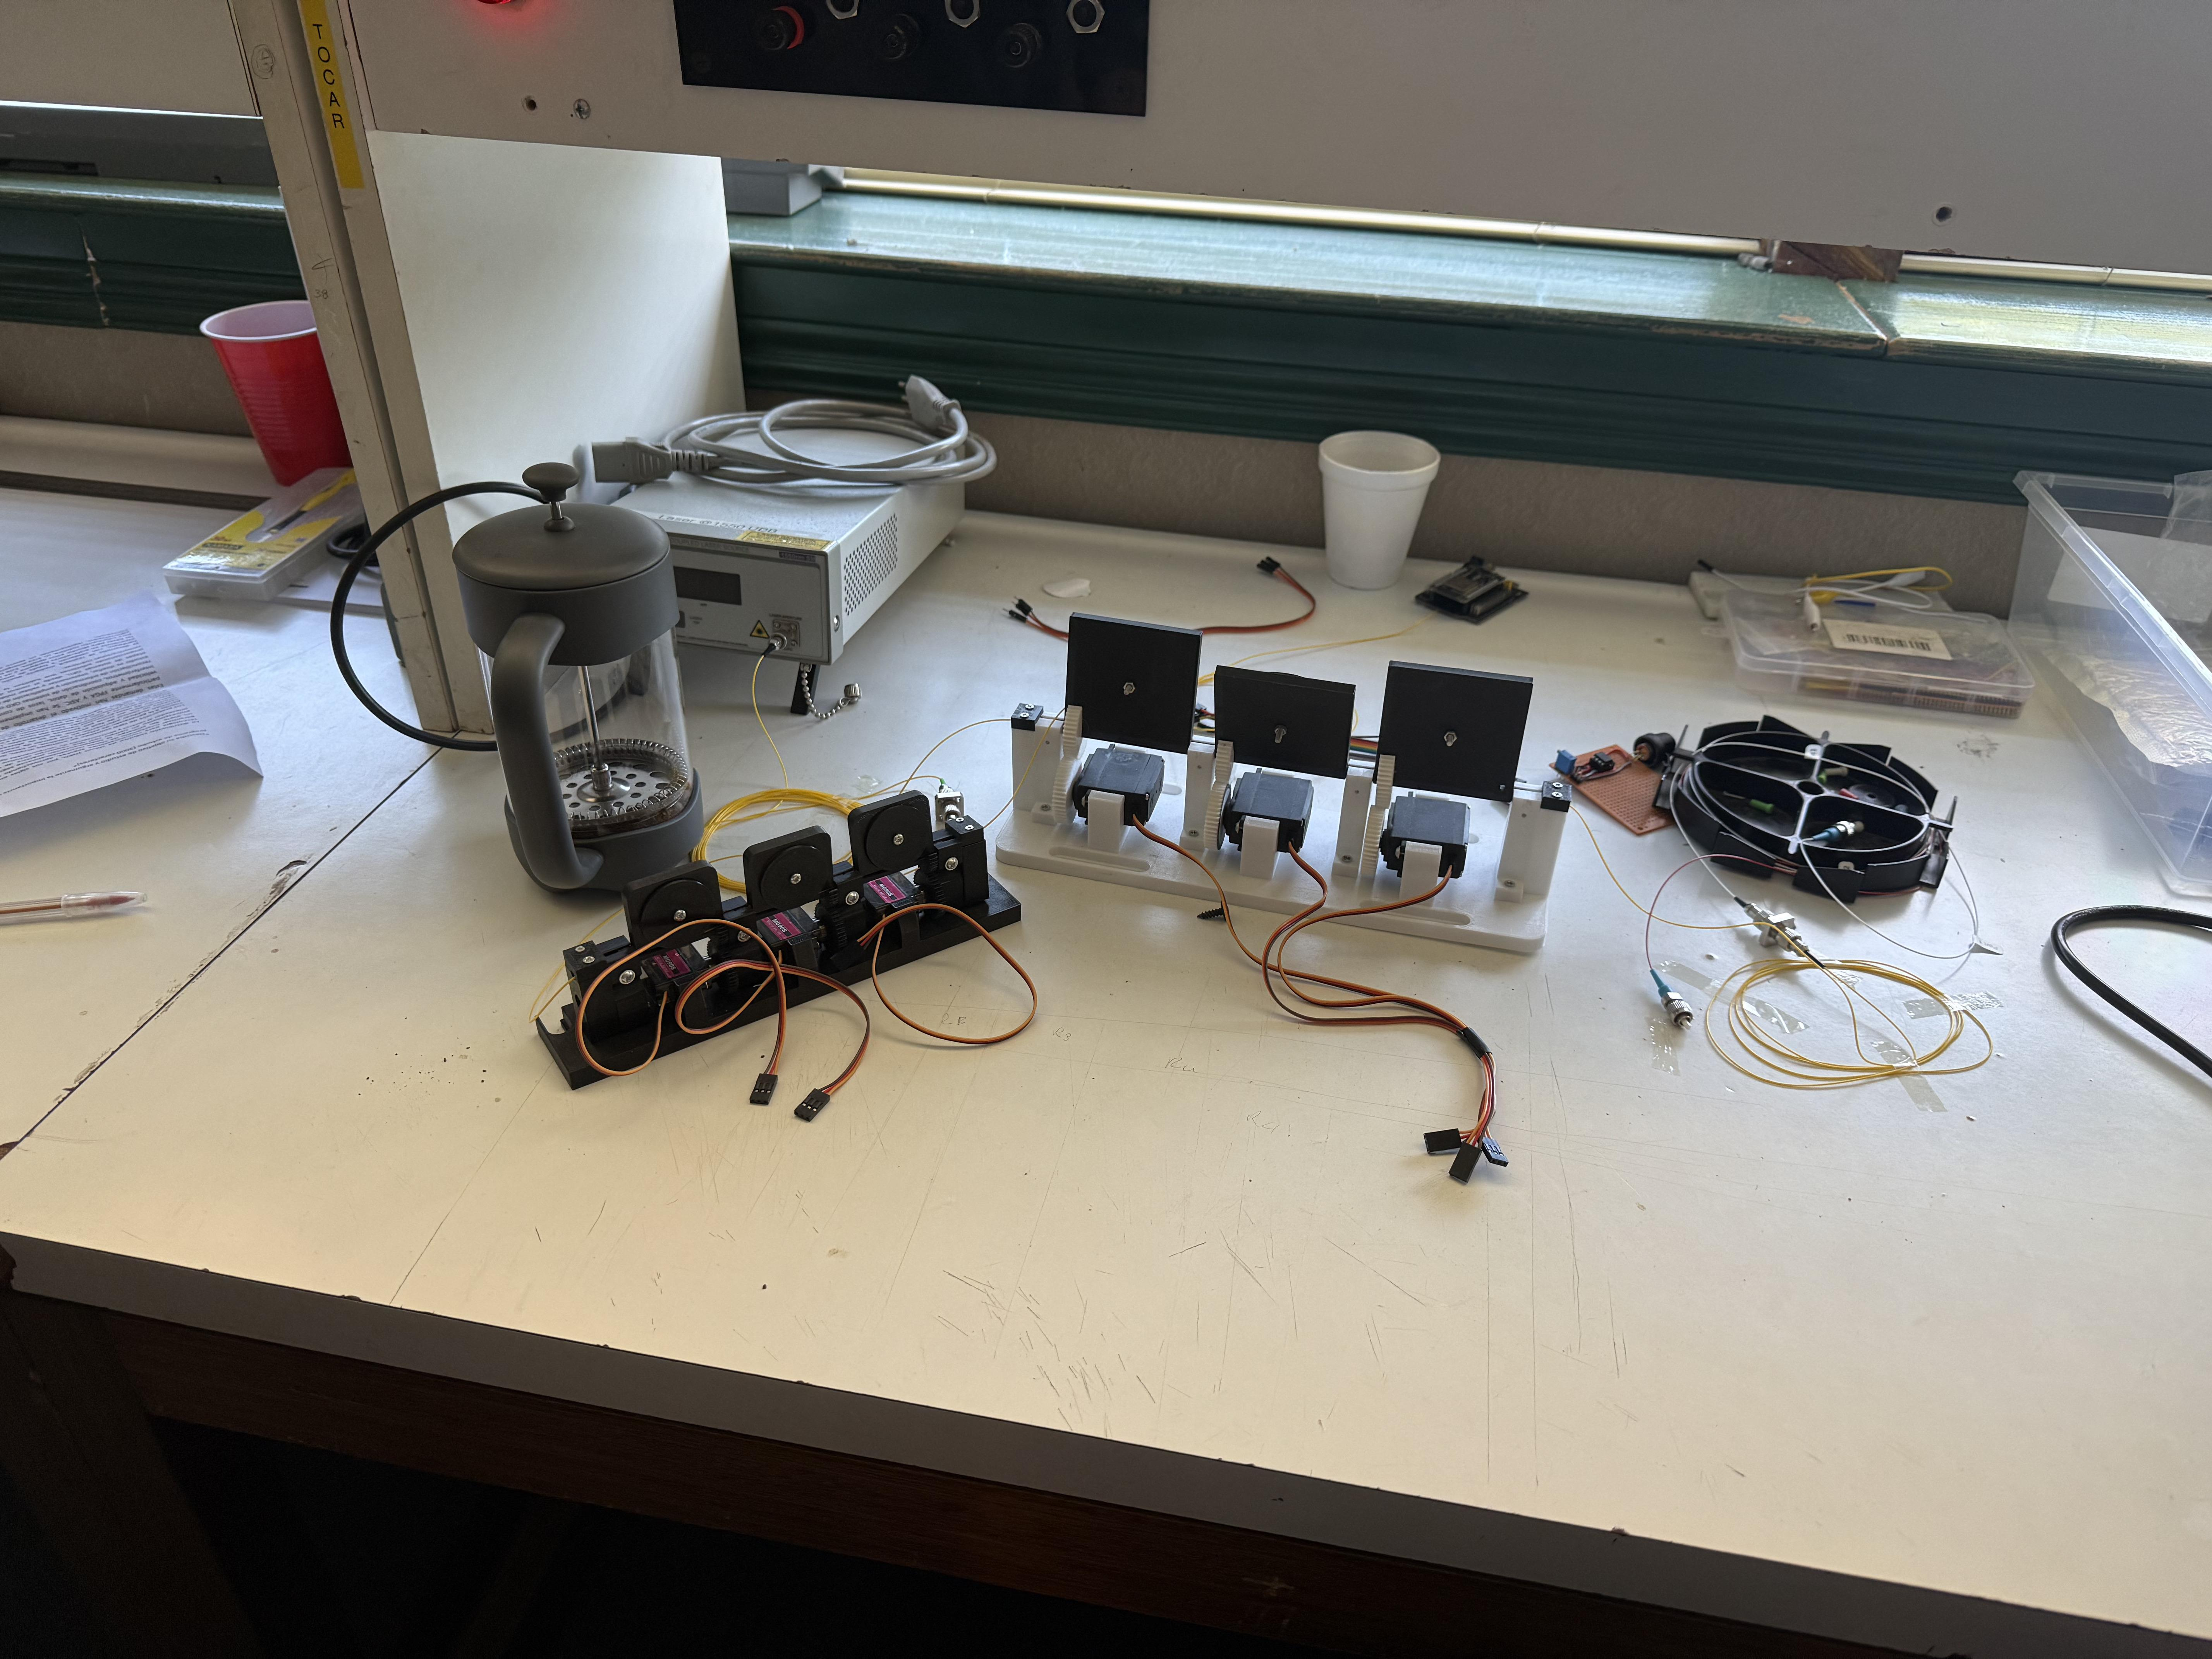laser: (519, 371, 1005, 681)
paddle_polarization_controller: (482, 711, 1122, 1161), (981, 641, 1590, 969)
